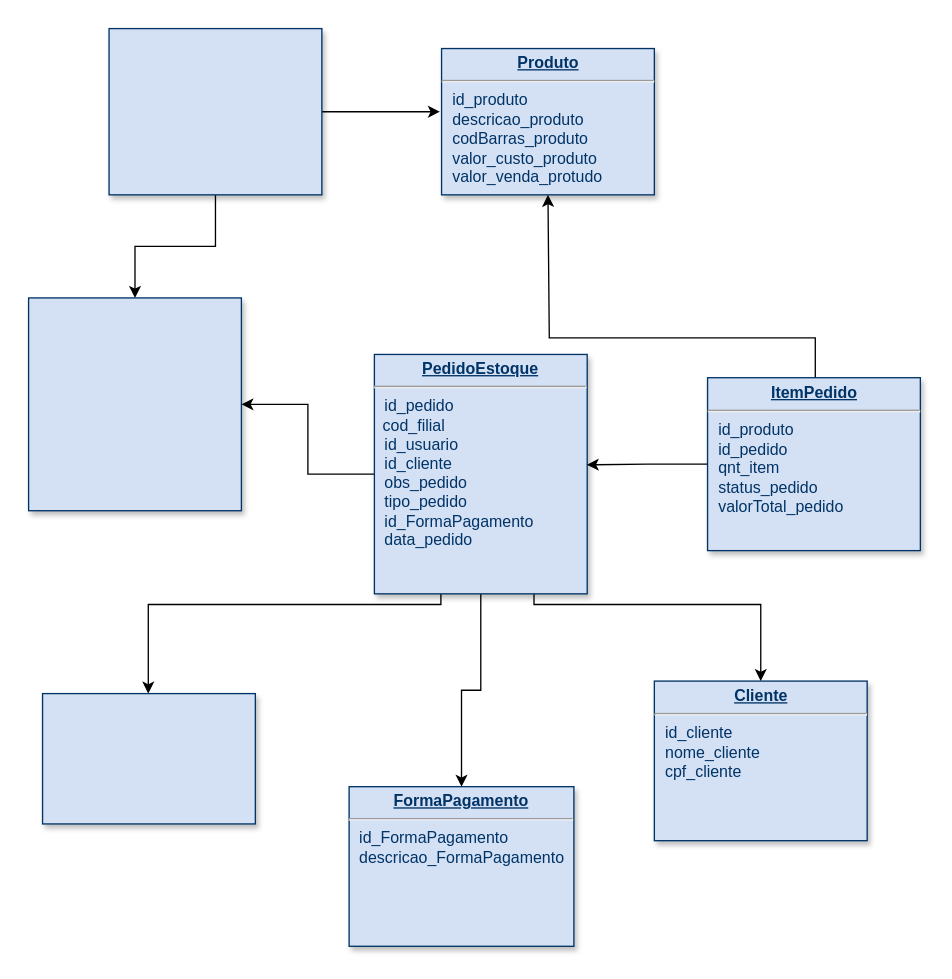
The diagram is 952 pixels wide and 979 high, and some of its shapes have lost their labels. Each missing label, with the centre of its shape:
Estoque cod_filial id_produto qnt_estoque: the point at 216,113
Filial cod_filial nome_filial: the point at 135,405
Usuário id_usuario nome_usuario login_usuario senha_usuario: the point at 149,760
